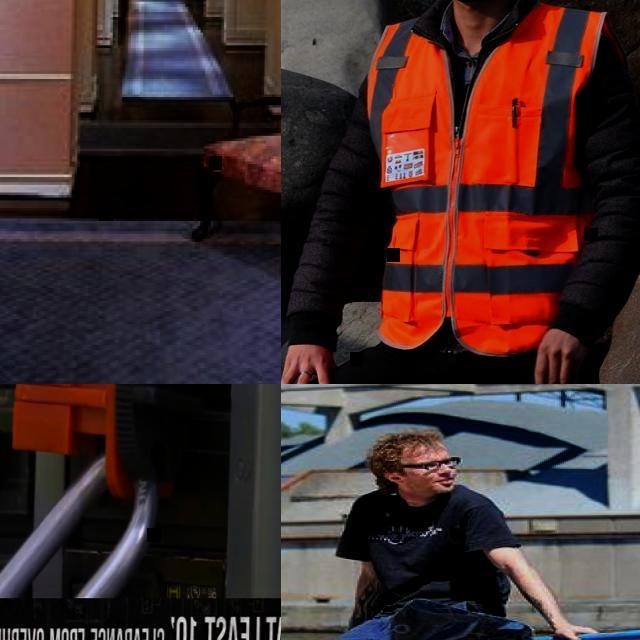vest: (373, 2, 627, 352)
